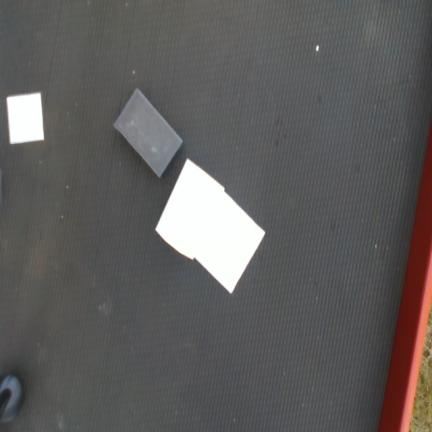Esfera: (0, 374, 22, 422)
Paralelepipedo: (113, 87, 184, 178)
Piramide: (194, 190, 265, 294), (6, 92, 45, 145)
Prisma_hexagonal: (155, 157, 225, 260)
